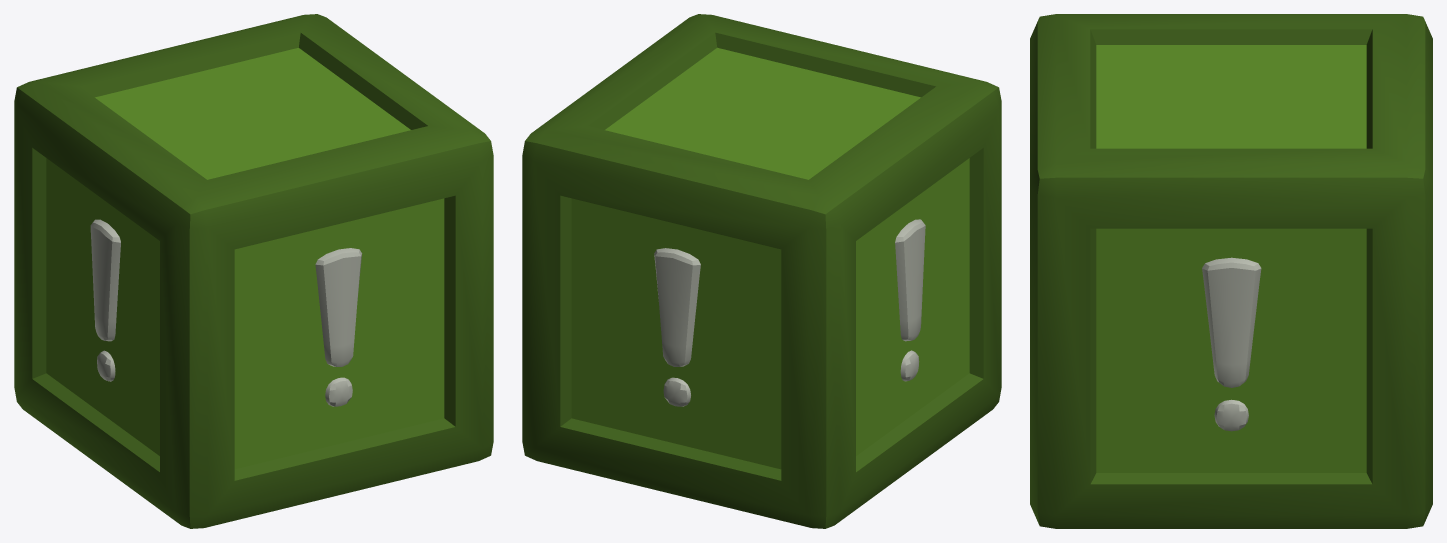
File: cube-exclamation.glb
3 views of the same model, side by side, from view 1: azimuth 30°, elevation 25°; view 2: azimuth 150°, elevation 25°; view 3: azimuth 270°, elevation 25° (orthographic). The views are drawn at different scales.
Parts seen in each view (by area): view 1: Cube_Exclamation; view 2: Cube_Exclamation; view 3: Cube_Exclamation.
Boxes of the visible parts, box(x1,y1,x2,y2) form: Cube_Exclamation: box(14, 14, 493, 528); Cube_Exclamation: box(522, 14, 1001, 528); Cube_Exclamation: box(1030, 14, 1432, 528).
Size of the model in its own units: 2.02 by 2.02 by 2.02.
